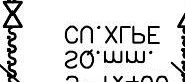terminator_splicing_kits: (2, 1, 23, 29)
